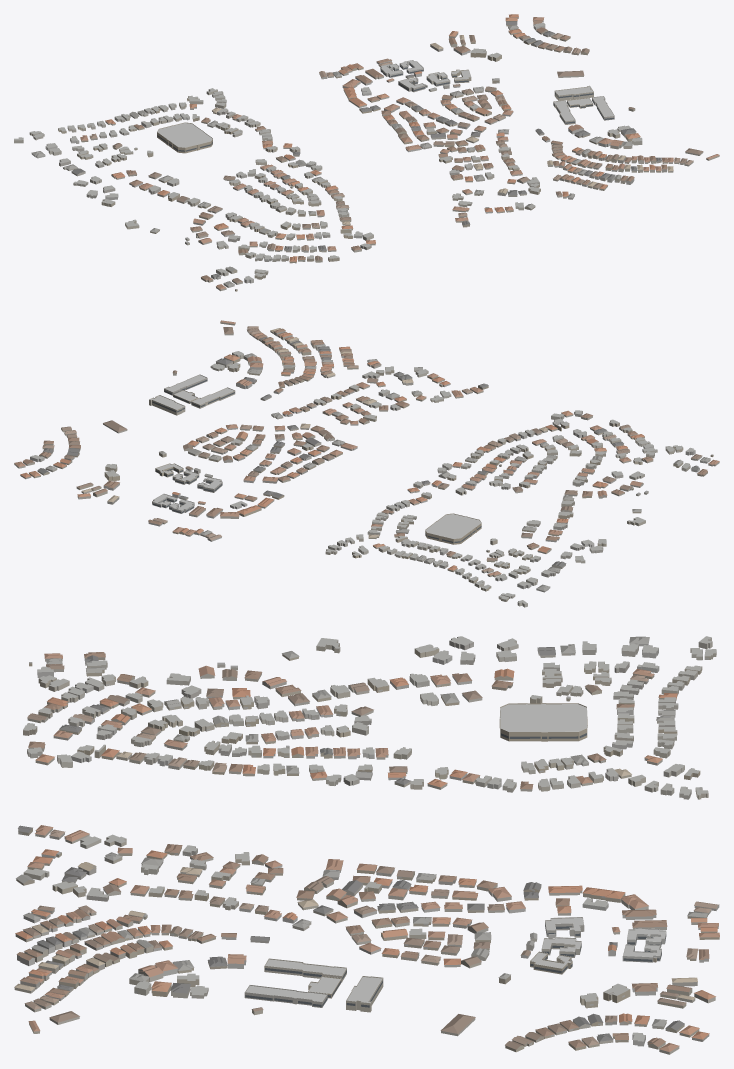
File: buildings_r5_c7.glb
3 renders of one model, top to bottom at view 1: azimuth 30°, elevation 25°; view 2: azimuth 150°, elevation 25°; view 3: azimuth 270°, elevation 25°, orthographic. The views are drawn at different scales.
Parts seen in each view (by area): view 1: buildings_r5_c7; view 2: buildings_r5_c7; view 3: buildings_r5_c7.
Boxes of the visible parts, bbox=[...] form: buildings_r5_c7: bbox=[14, 14, 719, 291]; buildings_r5_c7: bbox=[14, 320, 719, 607]; buildings_r5_c7: bbox=[14, 636, 719, 1054].
Bounding box in the file's own units: 1147 × 56.03 × 807.
